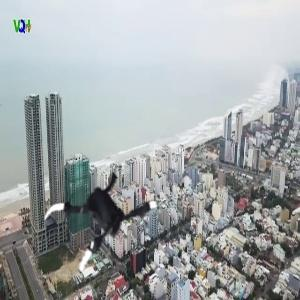drone: (42, 152, 172, 282)
